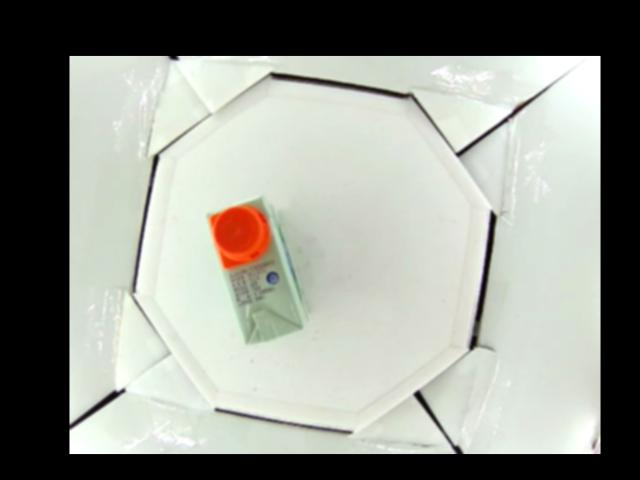Bottle: (208, 191, 308, 344)
